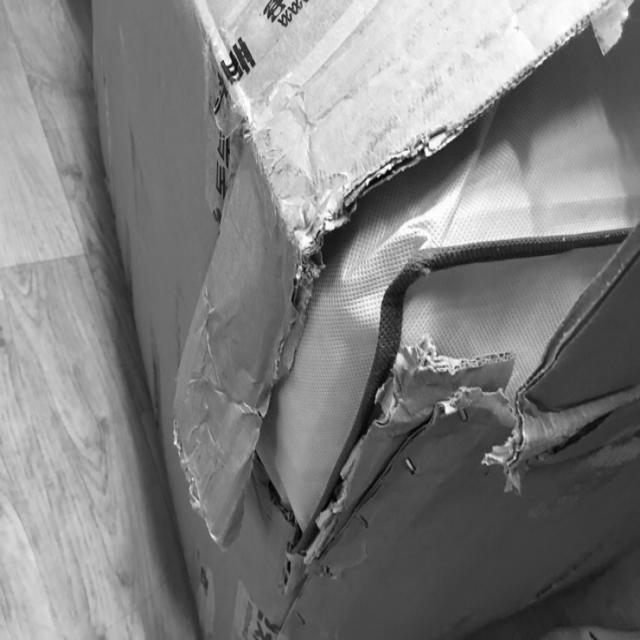hole: (246, 252, 398, 565)
